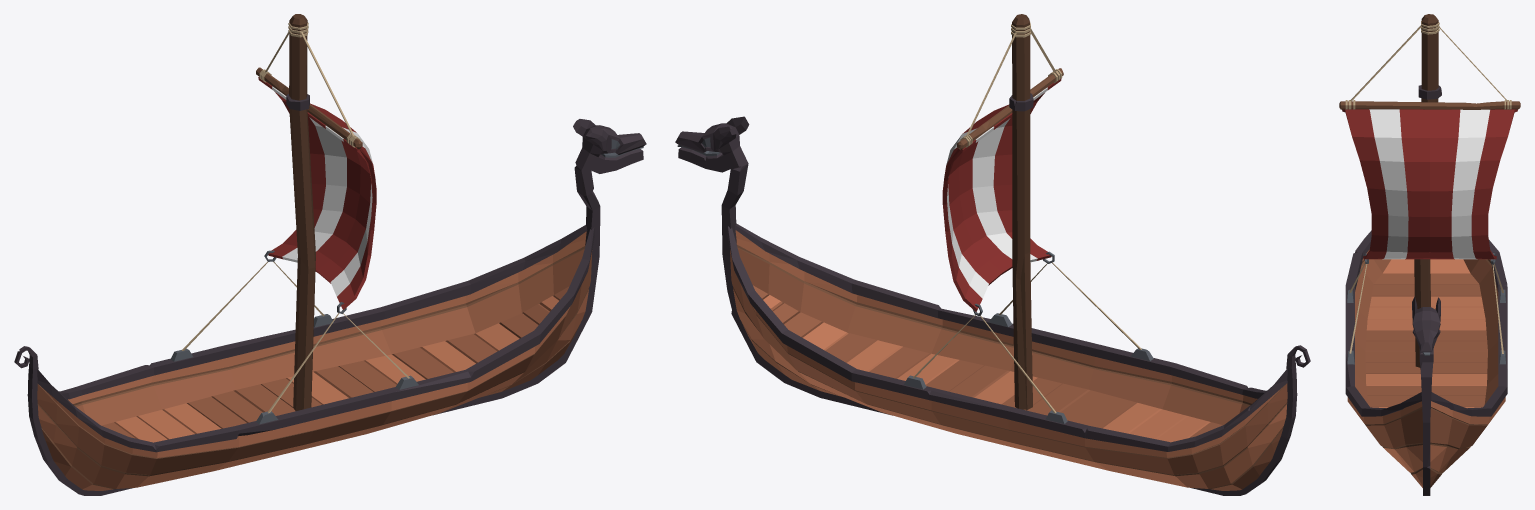
File: Boat_2 Village.fbx
3 renders of one model, left to right at view 1: azimuth 30°, elevation 25°; view 2: azimuth 150°, elevation 25°; view 3: azimuth 270°, elevation 25°, orthographic. The views are drawn at different scales.
Visible parts, largest first — view 1: Boat_2.001; view 2: Boat_2.001; view 3: Boat_2.001.
Part boxes in pixels (x1=…): Boat_2.001: x1=14, y1=14, x2=646, y2=495; Boat_2.001: x1=675, y1=14, x2=1310, y2=495; Boat_2.001: x1=1339, y1=14, x2=1520, y2=495.
Size of the model in its own units: 10.16 by 6.61 by 2.85.
